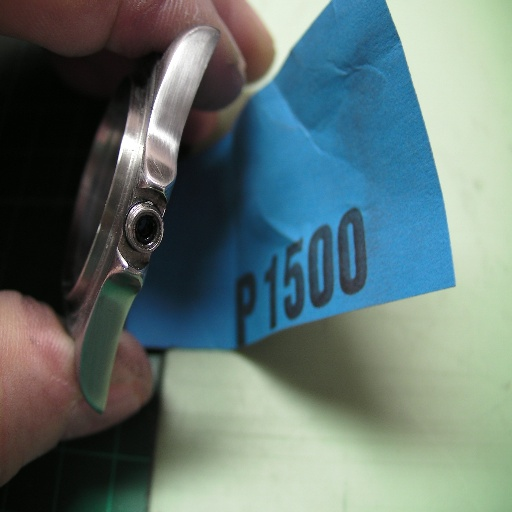hand: (12, 16, 262, 433)
